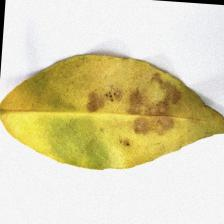black spot: (79, 70, 187, 140)
